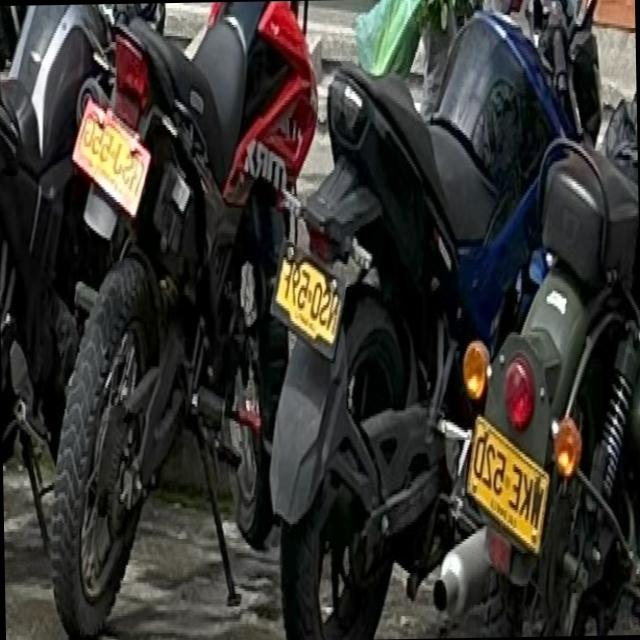number plate: (469, 414, 550, 550), (74, 98, 151, 212), (276, 239, 346, 353)
